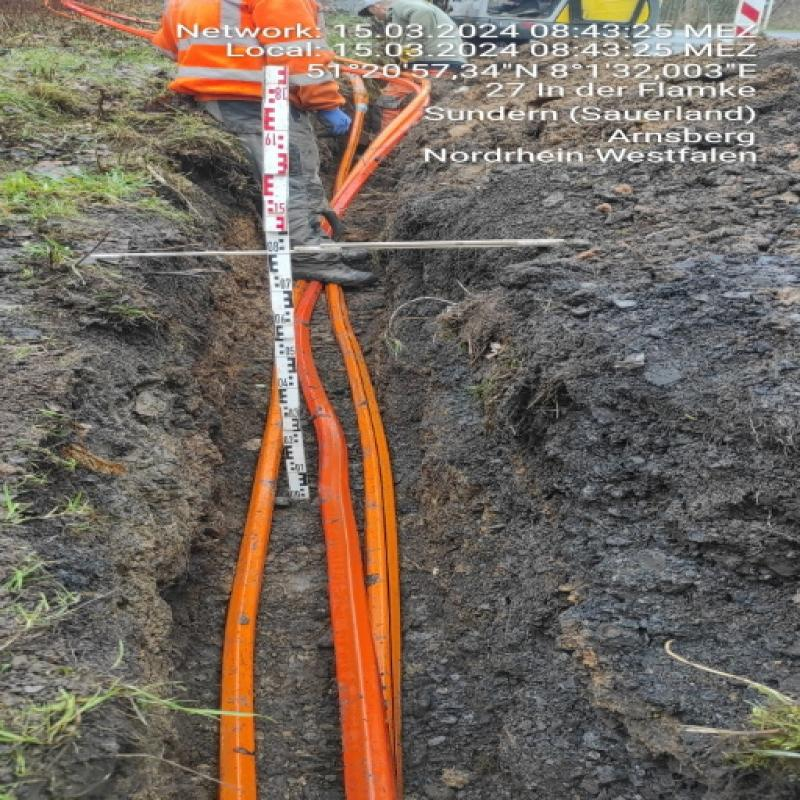Orang-Speednetrohrchen: (288, 269, 406, 800), (221, 376, 284, 798), (335, 62, 440, 213)
